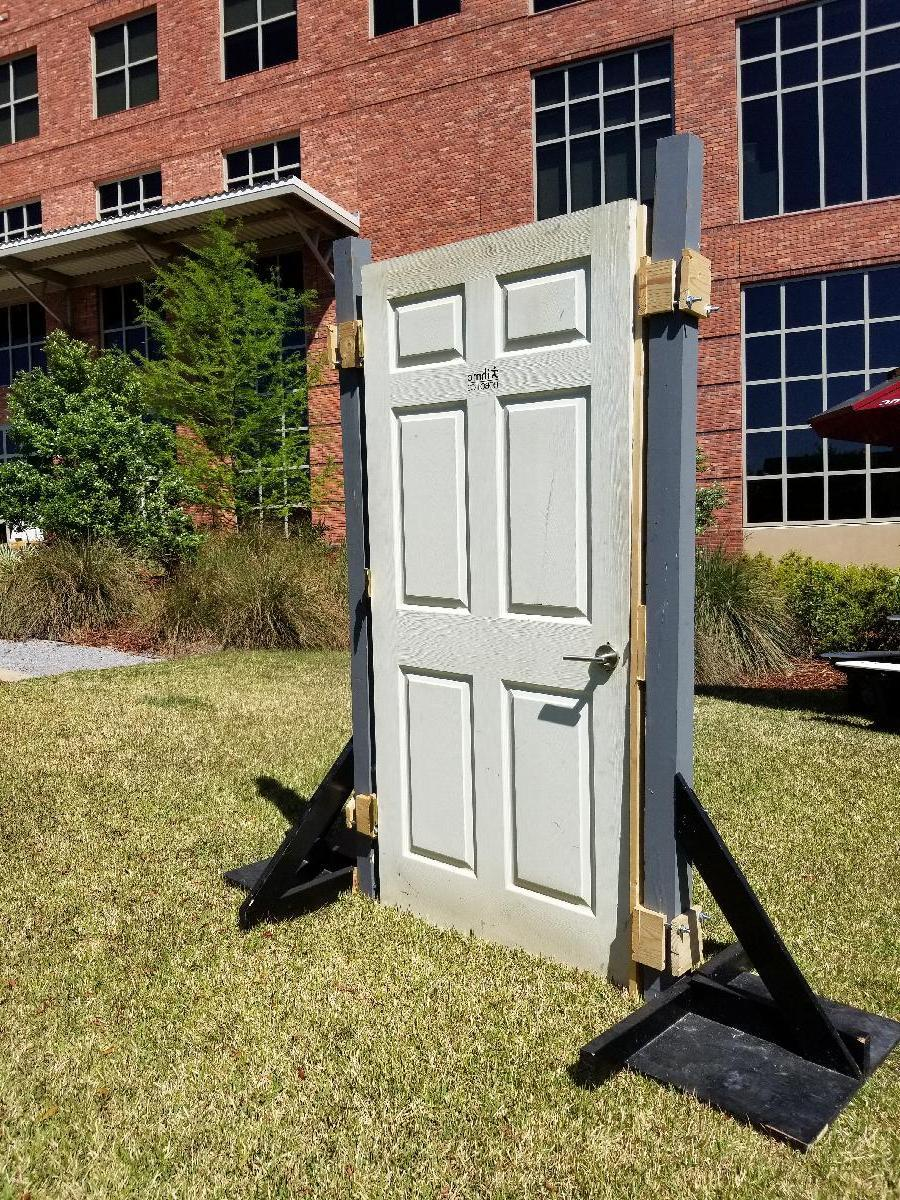door: (369, 195, 632, 950)
handle: (562, 641, 619, 674)
